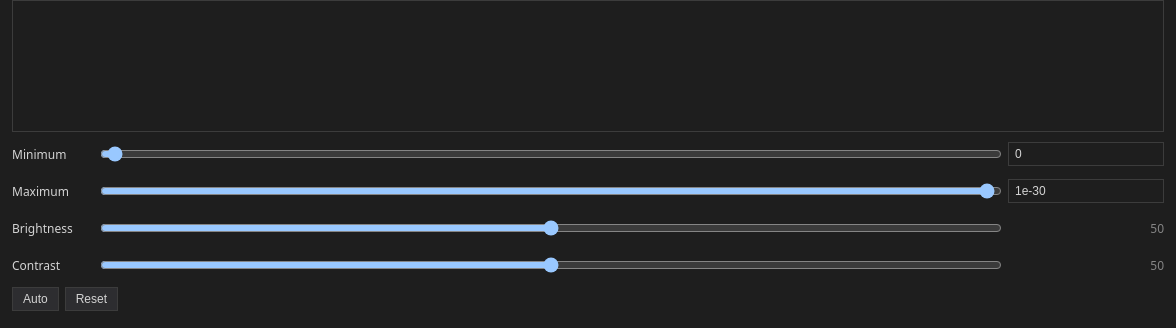
DataSetForm histogram range › keeps zero contrast finite over a tiny domain
This screenshot has width=1176, height=328.
Set the slider labelled "Contrast" to "0" at point(108, 265), box [100,252,1002,278]
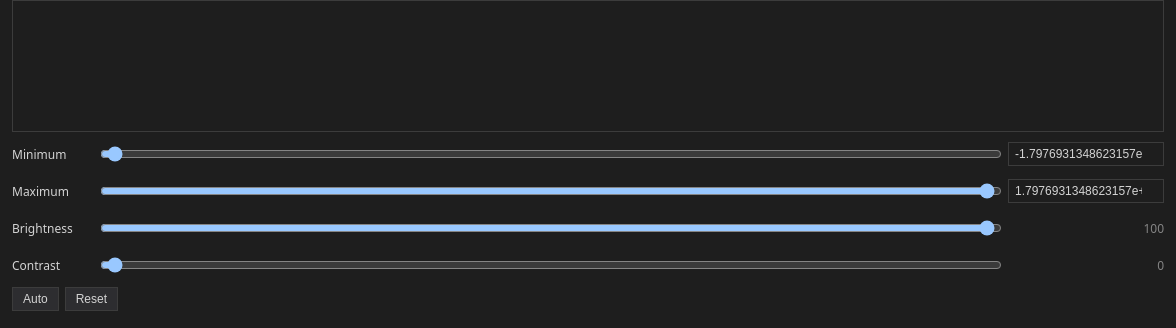
Click the button "Reset" at point(91, 299), box [65,287,118,311]
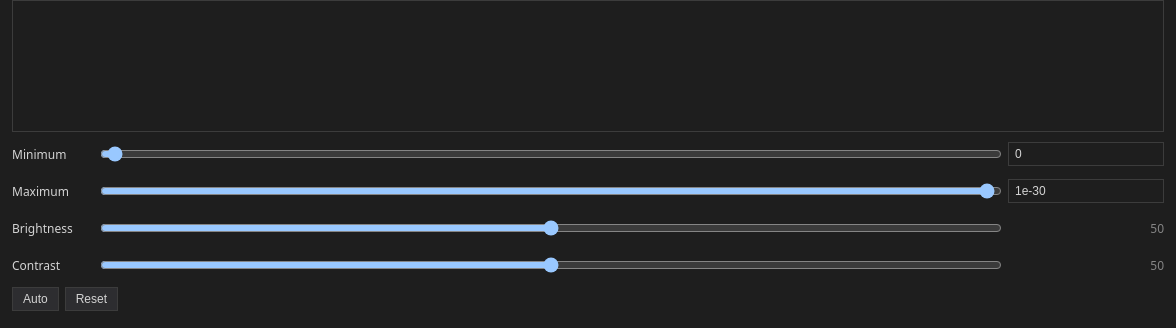
expect the number field named "Minimum" holds "0": met, box [1008,142,1164,166]
expect the number field named "Maximum" holds "-30": met, box [1008,179,1164,203]
